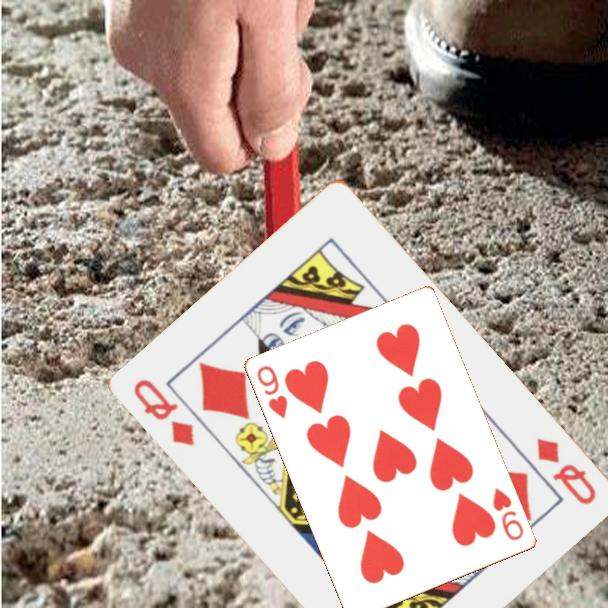d12: (130, 375, 199, 450), (533, 434, 600, 508)
h09: (489, 484, 527, 544), (254, 362, 291, 422)
